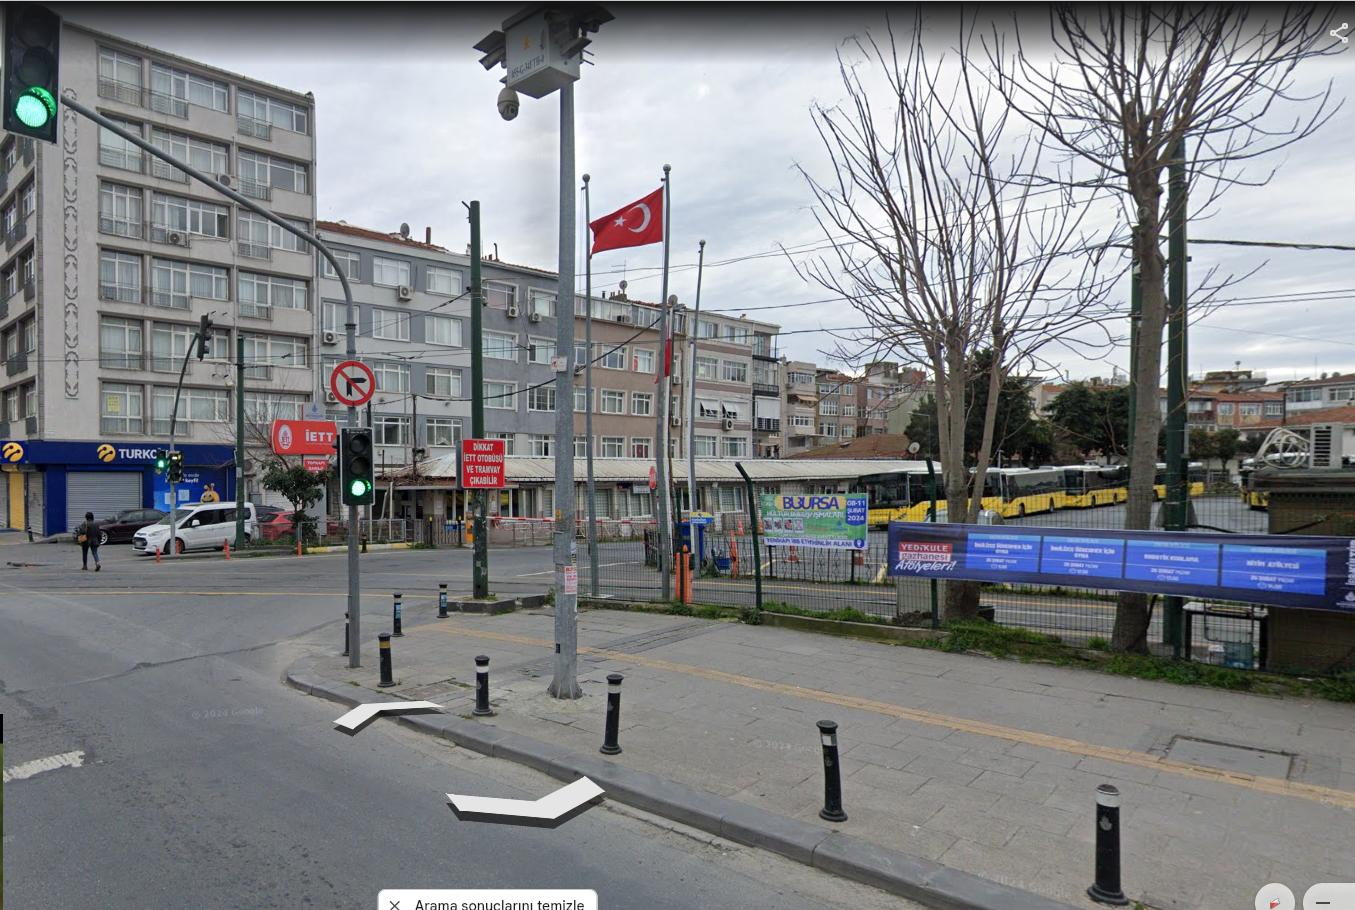greenlight: (7, 2, 53, 133), (343, 432, 375, 503)
rightturnsareforbidden: (333, 362, 377, 404)
